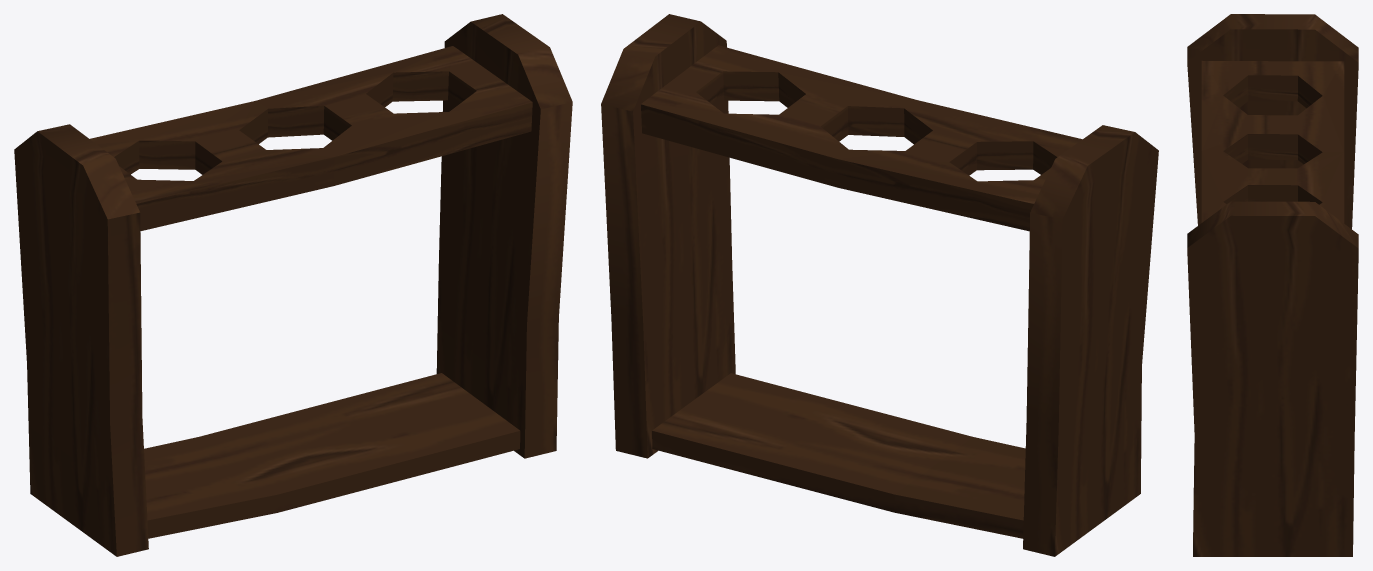
Rendered from SM_PROP_alchemy_holder_city_02.fbx.
3 renders of one model, left to right at view 1: azimuth 30°, elevation 25°; view 2: azimuth 150°, elevation 25°; view 3: azimuth 270°, elevation 25°, orthographic. The views are drawn at different scales.
Visible parts, largest first — view 1: SM_PROP_alchemy_holder_city_02; view 2: SM_PROP_alchemy_holder_city_02; view 3: SM_PROP_alchemy_holder_city_02.
Part boxes in pixels (box(x1,y1,x2,y2)): SM_PROP_alchemy_holder_city_02: box(14, 14, 572, 556); SM_PROP_alchemy_holder_city_02: box(601, 14, 1158, 556); SM_PROP_alchemy_holder_city_02: box(1187, 14, 1358, 556).
Bounding box in the file's own units: 24.75 × 19.51 × 8.73.
